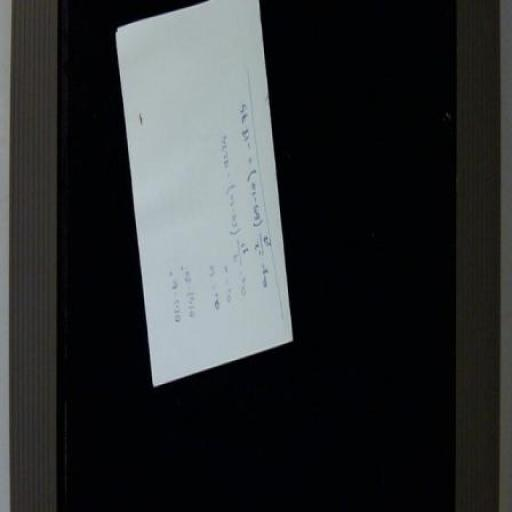paper: (78, 0, 330, 445)
